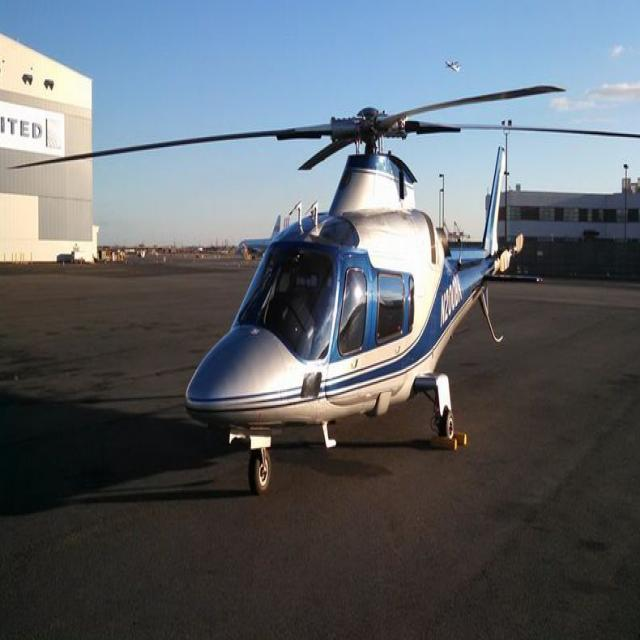helicopter: (85, 63, 552, 530)
